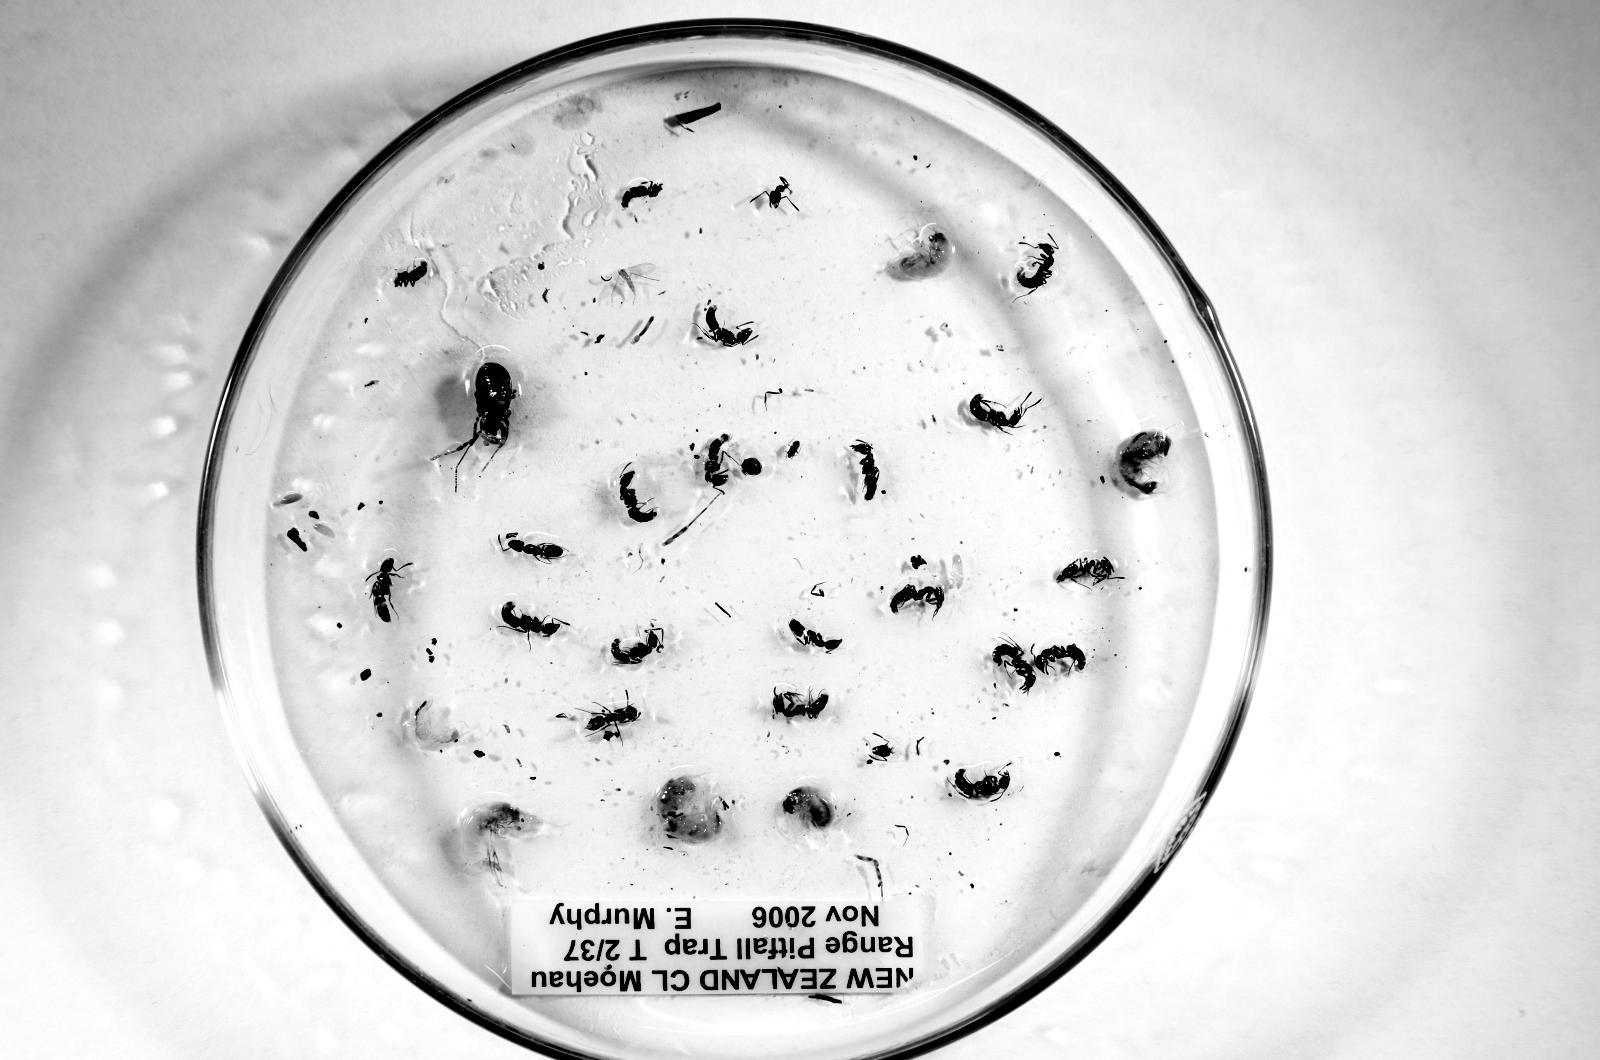amphipoda: (463, 801, 533, 885), (656, 775, 730, 843), (1118, 429, 1171, 495), (897, 224, 953, 280), (783, 786, 837, 830), (412, 702, 459, 748)
diptera: (602, 263, 655, 302)
formicidae: (968, 393, 1041, 433), (701, 300, 757, 347), (501, 601, 567, 637), (1016, 238, 1057, 293), (992, 642, 1036, 692), (952, 764, 1011, 801), (619, 465, 657, 522), (584, 703, 641, 740), (611, 626, 664, 664), (367, 558, 397, 622), (788, 619, 841, 652), (1056, 557, 1114, 587), (889, 584, 945, 615), (851, 440, 879, 500), (505, 533, 564, 560), (1034, 644, 1086, 674), (773, 691, 829, 718), (704, 434, 731, 487)
opiliones: (454, 362, 517, 453)
